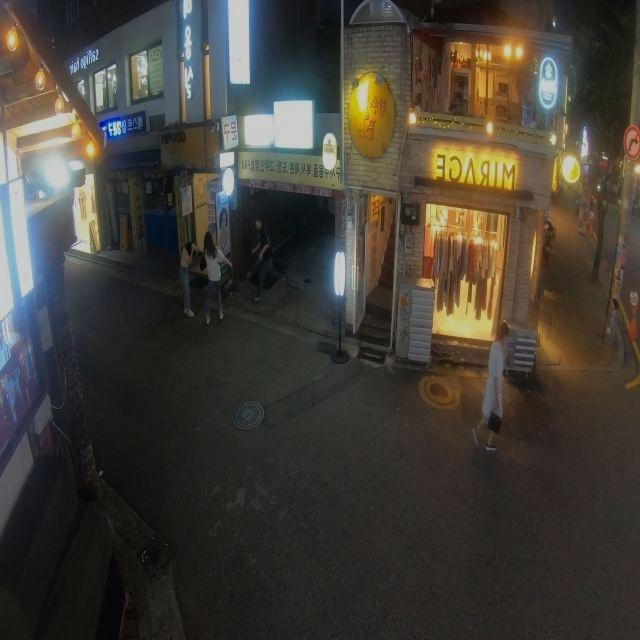fight: (176, 226, 233, 324)
non-fight: (477, 323, 511, 451), (243, 216, 275, 304)
